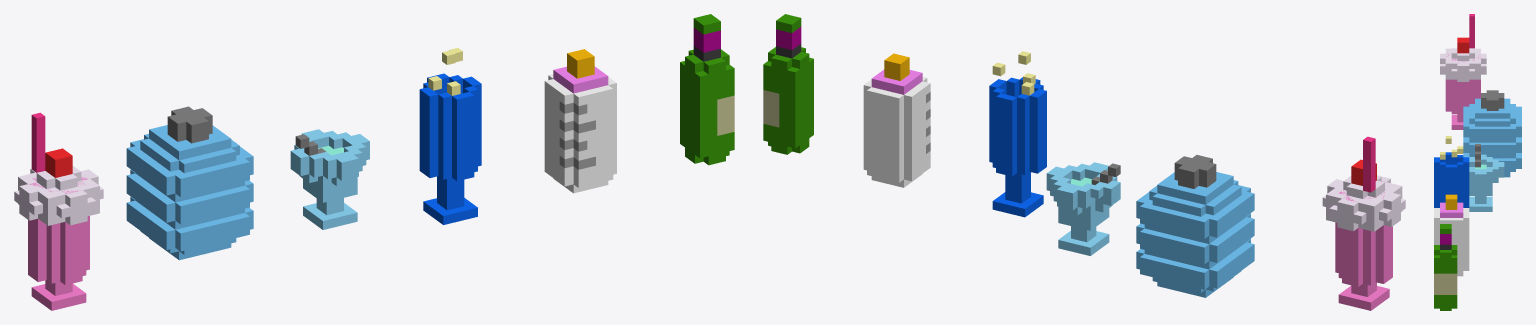
File: 91- drinks.fbx
3 views of the same model, side by side, from view 1: azimuth 30°, elevation 25°; view 2: azimuth 150°, elevation 25°; view 3: azimuth 270°, elevation 25° (orthographic). The views are drawn at different scales.
Parts seen in each view (by area): view 1: 118, 119, drinks009, 121, 120, 122, 122.2, 122.4, 122.3, drinks008; view 2: 118, 119, drinks009, 121, 120, 122, 122.2, 122.4, drinks008; view 3: 118, 121, 119, drinks009, 120, 122.2, 122, 122.3, drinks008, 122.4.
Part boxes in pixels (left/top/right/bottom): 118: left=126, top=106, right=253, bottom=260; 119: left=544, top=49, right=616, bottom=193; drinks009: left=419, top=73, right=481, bottom=224; 121: left=680, top=14, right=734, bottom=165; 120: left=290, top=129, right=369, bottom=229; 122: left=28, top=177, right=89, bottom=310; 122.2: left=14, top=165, right=103, bottom=225; 122.4: left=31, top=112, right=45, bottom=172; 122.3: left=45, top=148, right=72, bottom=177; drinks008: left=428, top=48, right=462, bottom=95; 118: left=1136, top=155, right=1254, bottom=297; 119: left=863, top=53, right=930, bottom=187; drinks009: left=989, top=77, right=1046, bottom=217; 121: left=763, top=14, right=813, bottom=154; 120: left=1046, top=162, right=1120, bottom=255; 122: left=1335, top=181, right=1392, bottom=310; 122.2: left=1322, top=175, right=1405, bottom=231; 122.4: left=1363, top=136, right=1375, bottom=192; drinks008: left=992, top=51, right=1035, bottom=95; 118: left=1463, top=90, right=1521, bottom=177; 121: left=1434, top=224, right=1457, bottom=310; 119: left=1434, top=194, right=1469, bottom=276; drinks009: left=1434, top=152, right=1469, bottom=207; 120: left=1469, top=144, right=1504, bottom=211; 122.2: left=1440, top=48, right=1486, bottom=81; 122: left=1445, top=53, right=1480, bottom=129; 122.3: left=1457, top=37, right=1469, bottom=53; drinks008: left=1440, top=136, right=1463, bottom=159; 122.4: left=1469, top=14, right=1474, bottom=48.
Bounding box in the file's own units: 790 × 200 × 150.
13 materials, 12 textured.
